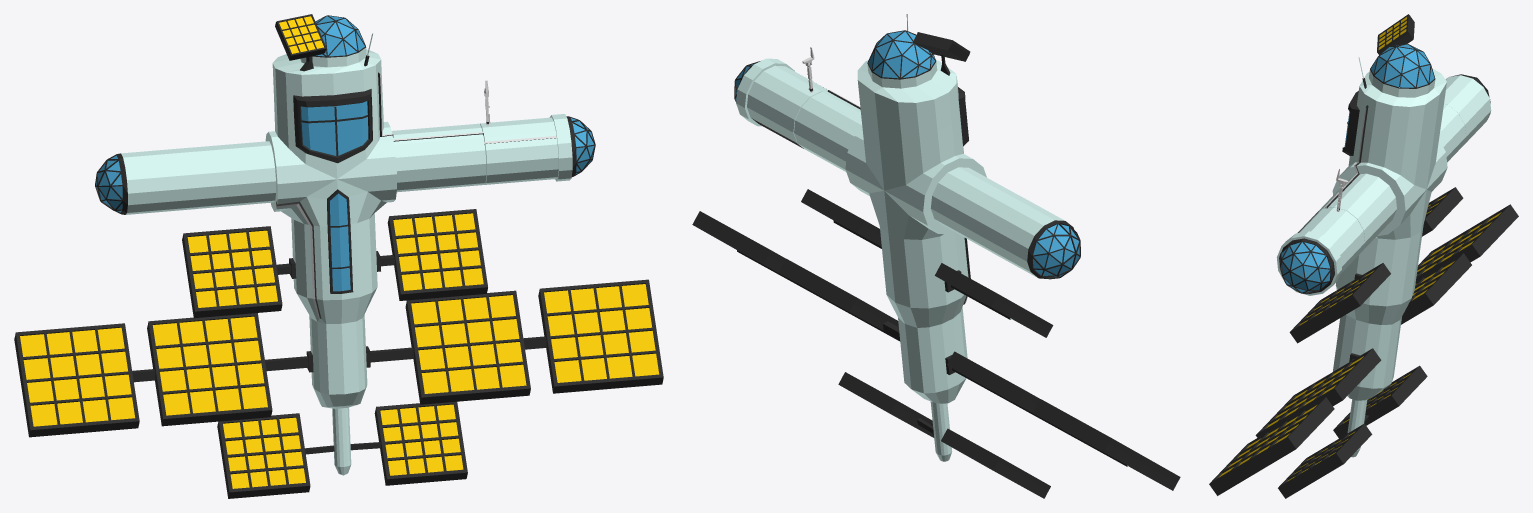
The model's file is space-station1.glb.
The picture shows the model from 3 angles, left to right: view 1: azimuth 30°, elevation 25°; view 2: azimuth 150°, elevation 25°; view 3: azimuth 270°, elevation 25°; orthographic projection. The views are drawn at different scales.
Visible parts, largest first — view 1: CosmoStation; view 2: CosmoStation; view 3: CosmoStation.
Part boxes in pixels (bbox=[...]): CosmoStation: bbox=[14, 14, 663, 498]; CosmoStation: bbox=[692, 14, 1180, 498]; CosmoStation: bbox=[1209, 14, 1518, 498].
Bounding box in the file's own units: 26.31 × 20.5 × 13.4.
